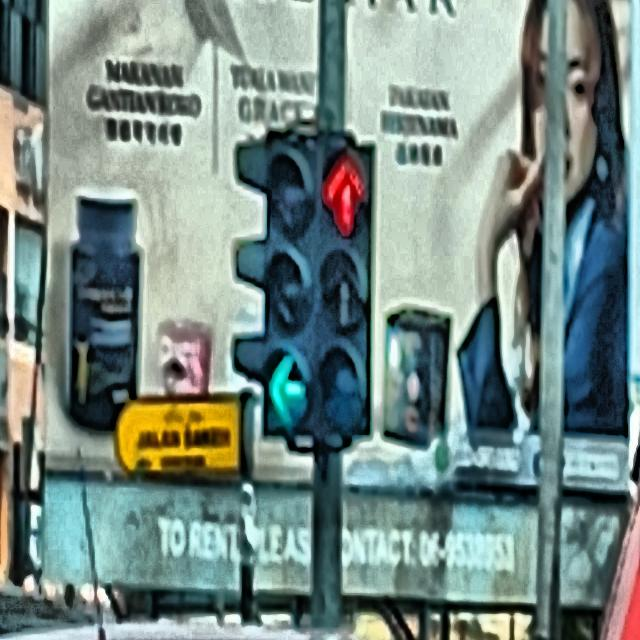green: (262, 128, 318, 436)
red: (318, 140, 374, 438)
